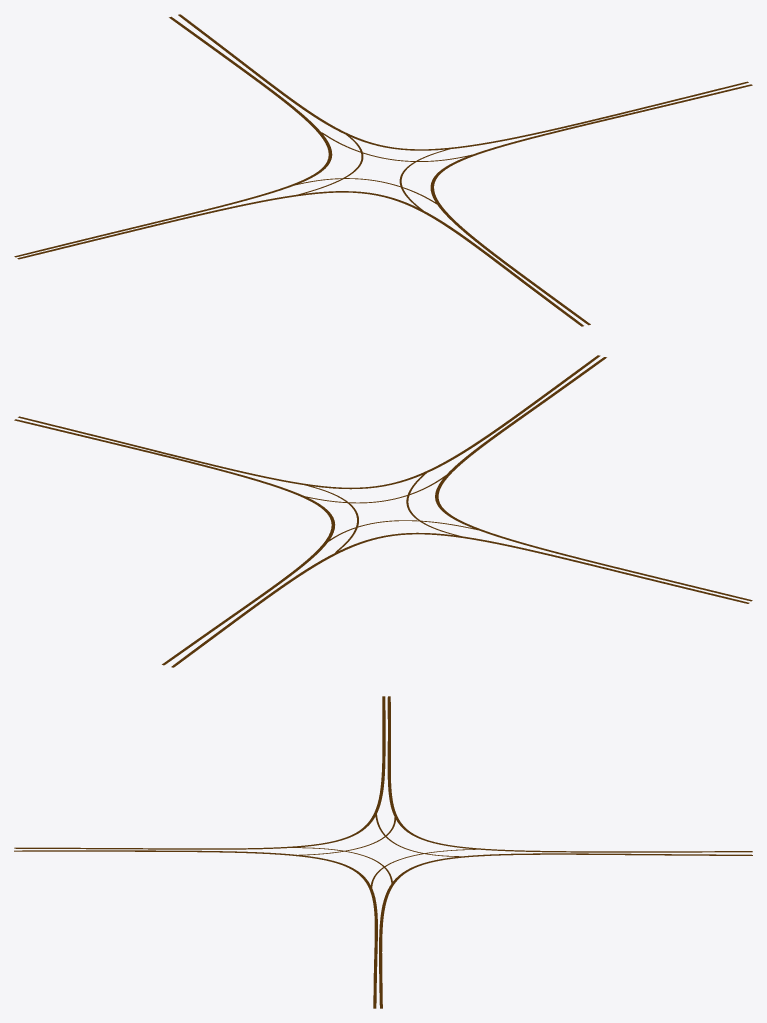
Rendered from rail.gltf.
3 renders of one model, top to bottom at view 1: azimuth 30°, elevation 25°; view 2: azimuth 150°, elevation 25°; view 3: azimuth 270°, elevation 25°, orthographic. The views are drawn at different scales.
Parts seen in each view (by area): view 1: rail1, rail3, rail4, rail2; view 2: rail2, rail4, rail3, rail1; view 3: rail3, rail4, rail1, rail2.
Boxes of the visible parts, box(x1,y1,x2,y2) form: rail1: box(17, 191, 583, 326); rail3: box(178, 14, 748, 150); rail4: box(430, 84, 752, 325); rail2: box(14, 16, 332, 257); rail2: box(171, 532, 749, 667); rail4: box(18, 355, 600, 489); rail3: box(14, 419, 335, 665); rail1: box(435, 357, 752, 601); rail3: box(379, 853, 752, 1008); rail4: box(14, 850, 377, 1008); rail1: box(14, 696, 385, 849); rail2: box(387, 696, 752, 852).
Size of the model in its own units: 3.99 by 0.00177 by 3.99.
1 material, 1 textured.
